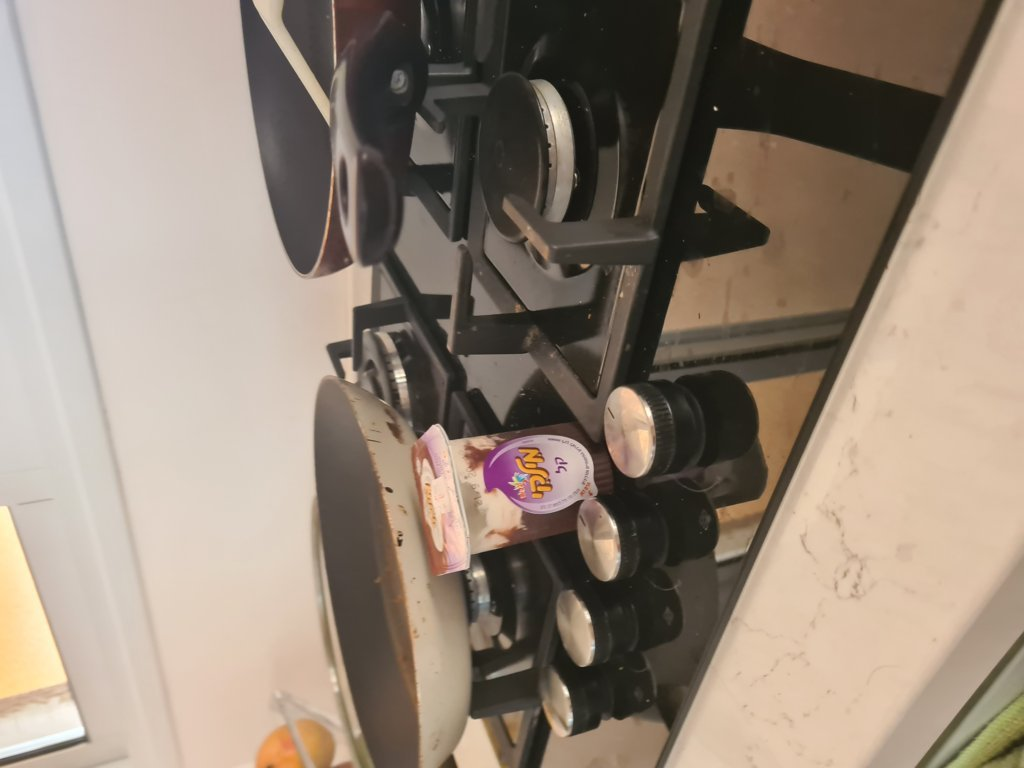milky: (406, 422, 617, 565)
